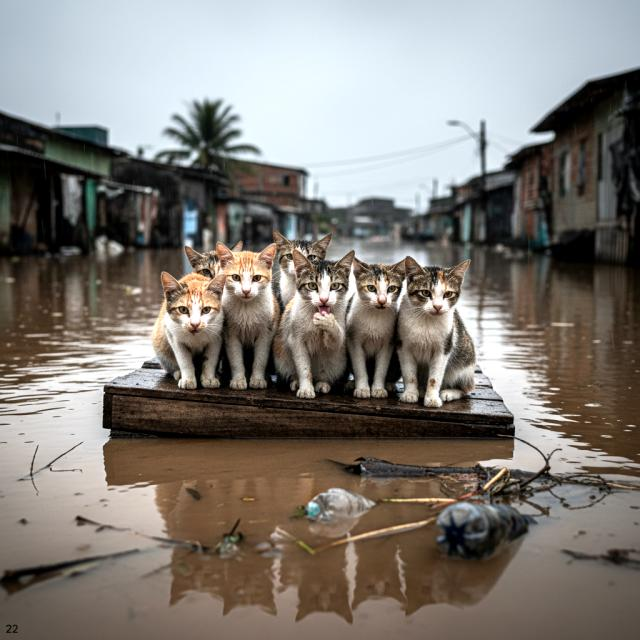cat: (398, 253, 480, 413), (283, 253, 352, 401), (337, 248, 401, 403), (144, 274, 229, 385), (214, 246, 280, 385), (267, 229, 335, 308), (184, 238, 244, 275)
